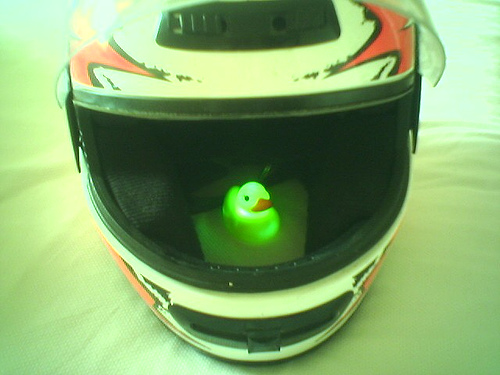helmet: (60, 3, 416, 353)
